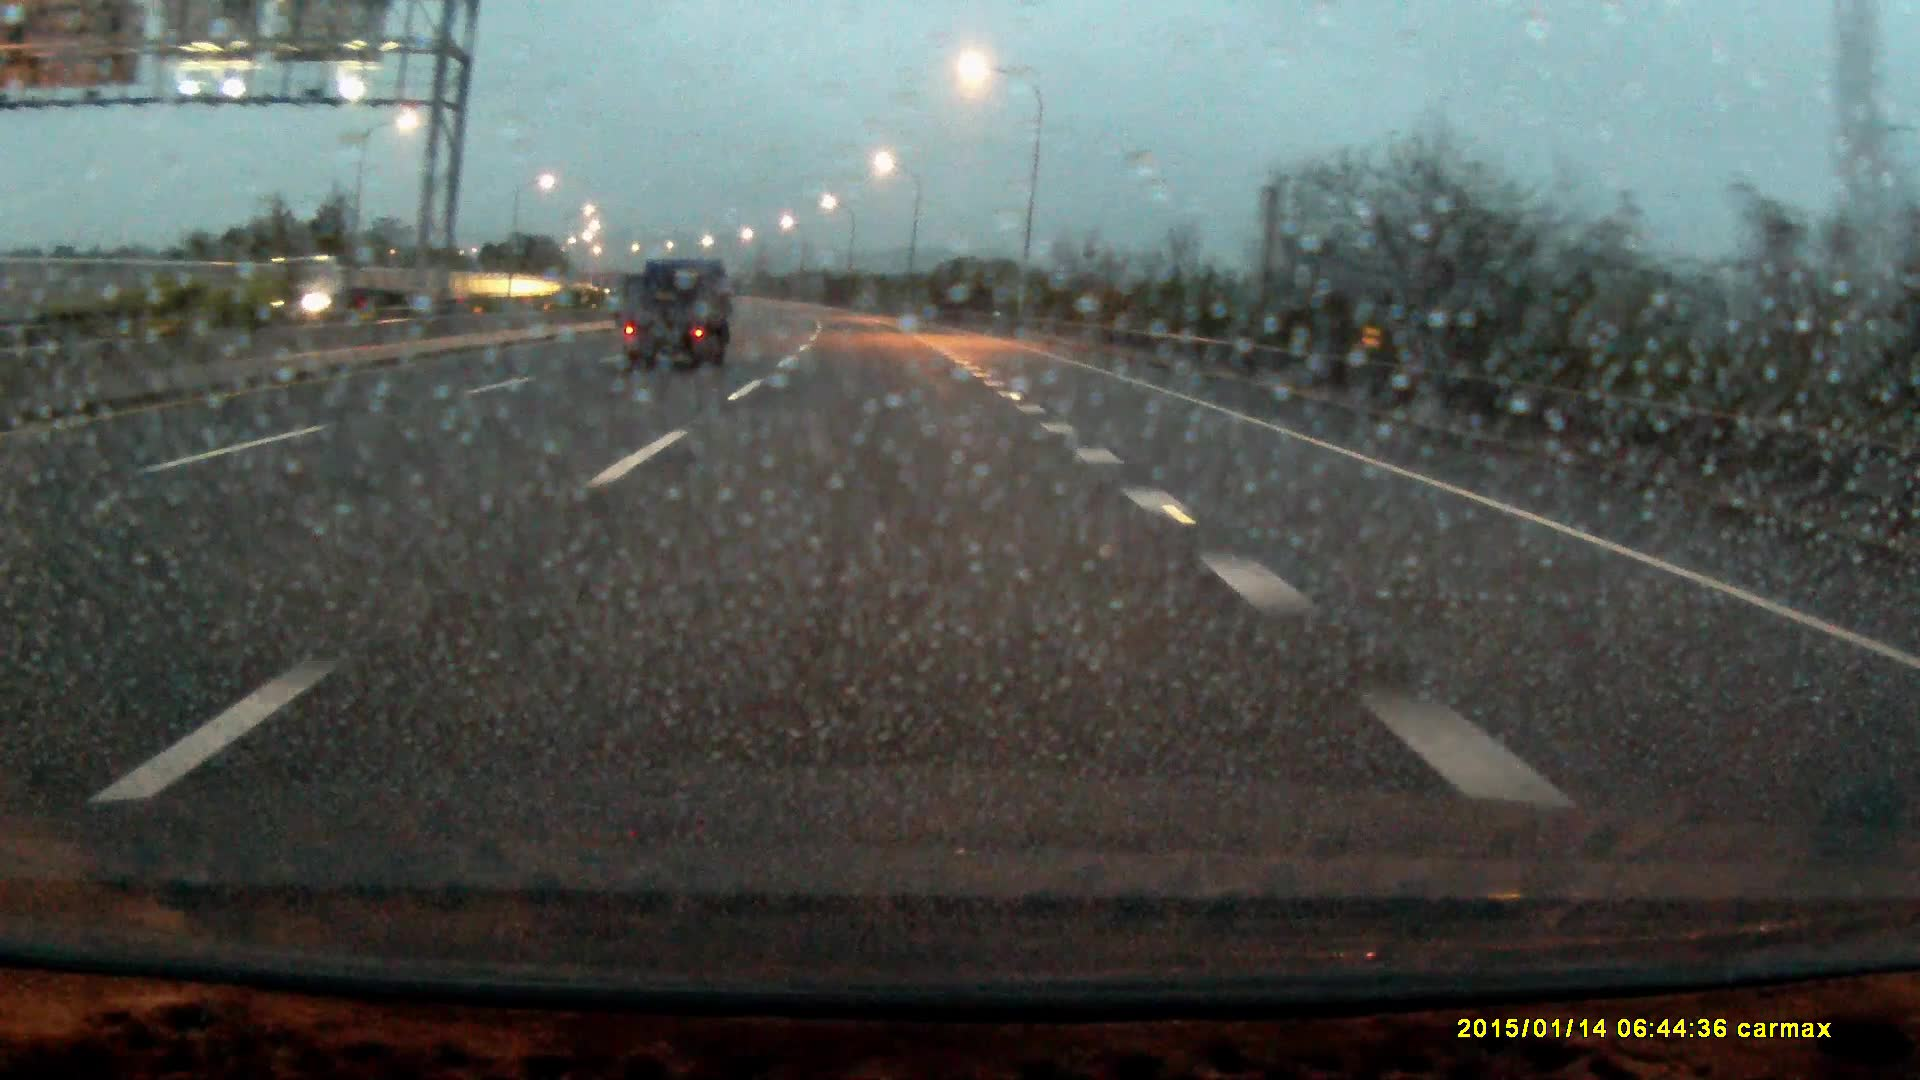vehicle: (622, 262, 736, 378), (262, 255, 404, 323)
